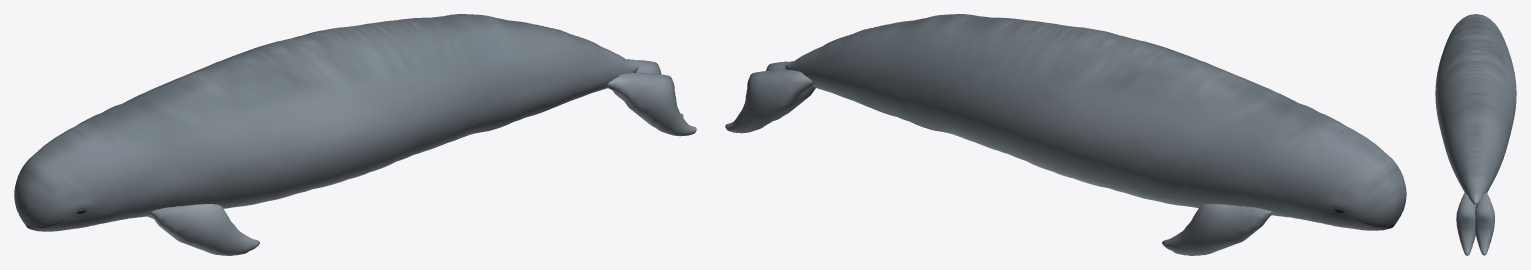
File: yangtze-finless-porpoise.glb
3 renders of one model, left to right at view 1: azimuth 30°, elevation 25°; view 2: azimuth 150°, elevation 25°; view 3: azimuth 270°, elevation 25°, orthographic. The views are drawn at different scales.
Parts seen in each view (by area): view 1: mm_frame (10); view 2: mm_frame (10); view 3: mm_frame (10).
Part boxes in pixels (box(x1,y1,x2,y2)): mm_frame (10): box(14, 14, 696, 255); mm_frame (10): box(725, 14, 1406, 255); mm_frame (10): box(1435, 14, 1516, 255).
Bounding box in the file's own units: 9.62 × 2.44 × 1.84.
Materials: 1 (1 with a texture image).
